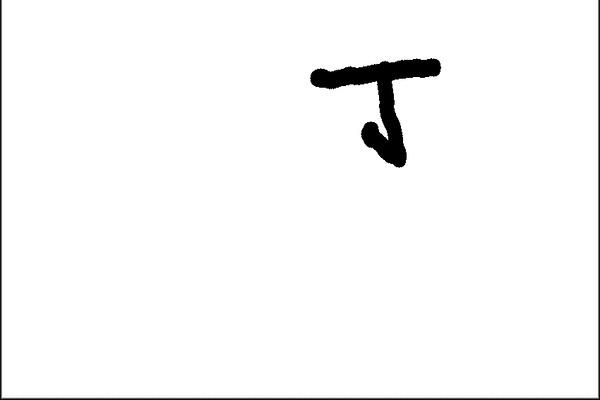J: (297, 50, 452, 172)
